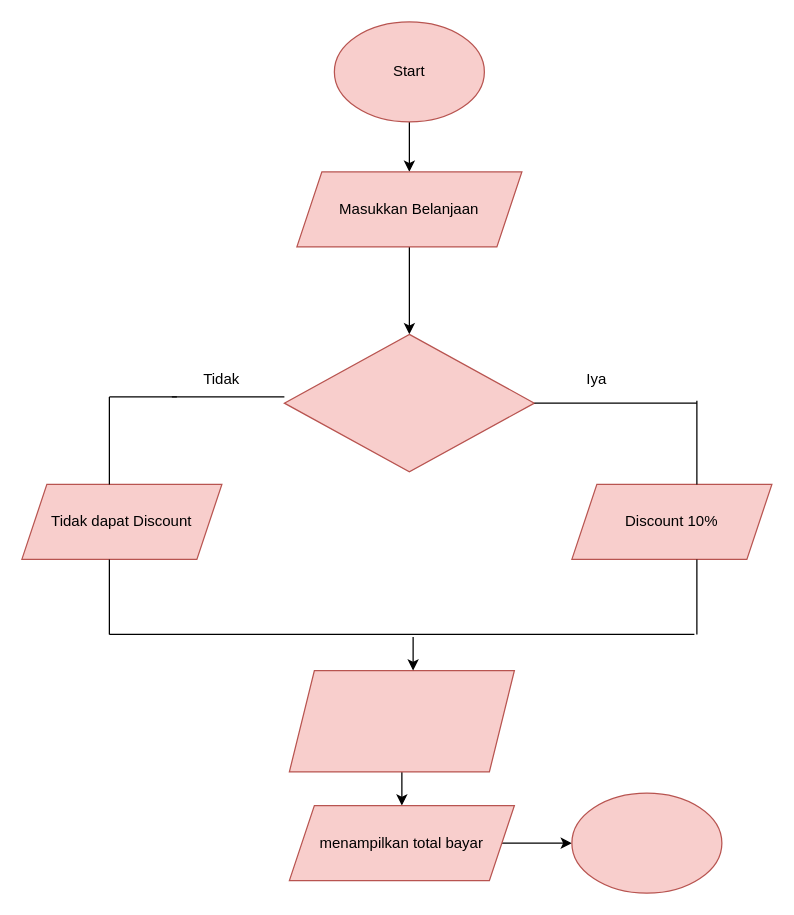
Some shapes in this 794 by 915 pixel diagram are drawn without their labels. The centre of each missing label's shape, as x and y in pixels:
"End" goes at pixel 646 842.
"Total Belanja > discount Total Belanja < tidak discount" goes at pixel 401 720.
"Total Belanja RP 1.000.000>=" goes at pixel 408 402.
